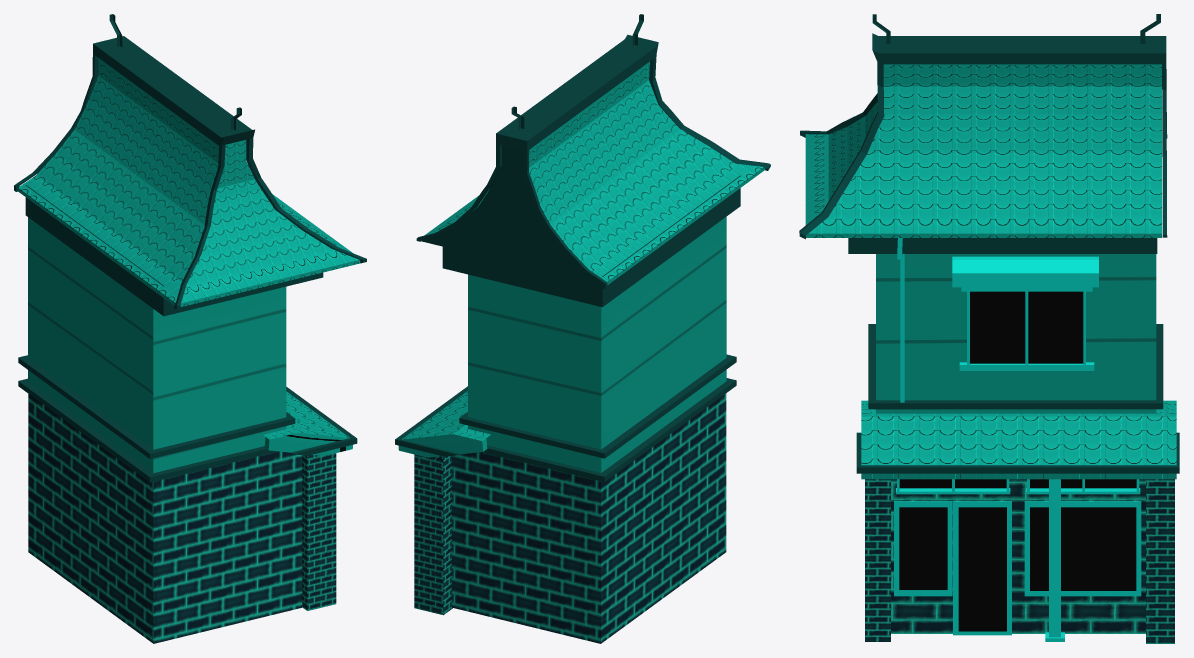
Rendered from building2.fbx.
3 views of the same model, side by side, from view 1: azimuth 30°, elevation 25°; view 2: azimuth 150°, elevation 25°; view 3: azimuth 270°, elevation 25° (orthographic). The views are drawn at different scales.
Parts seen in each view (by area): view 1: Cube.003, Cube.004, Cube.001, Cube, Cube.006, Cube.034, Cube.002, Cube.035; view 2: Cube.003, Cube.004, Cube, Cube.001, Cube.006, Cube.002, Cube.034, Cube.035; view 3: Cube.004, Cube.003, Cube.002, Cube.001, Cube.033, Cube.029, Cube.028, Cube, Cube.008, Cube.006, Cube.030, Cube.035 (+10 smaller).
Boxes of the visible parts, bbox=[...] form: Cube.003: bbox=[28, 217, 302, 643]; Cube.004: bbox=[14, 14, 366, 308]; Cube.001: bbox=[302, 453, 336, 610]; Cube: bbox=[25, 185, 323, 316]; Cube.006: bbox=[18, 355, 295, 458]; Cube.034: bbox=[18, 378, 277, 482]; Cube.002: bbox=[263, 391, 352, 456]; Cube.035: bbox=[286, 387, 357, 455]; Cube.003: bbox=[451, 217, 726, 643]; Cube.004: bbox=[416, 14, 770, 288]; Cube: bbox=[442, 175, 740, 307]; Cube.001: bbox=[414, 454, 452, 615]; Cube.006: bbox=[459, 354, 736, 458]; Cube.002: bbox=[398, 391, 490, 457]; Cube.034: bbox=[482, 378, 736, 481]; Cube.035: bbox=[395, 386, 467, 456]; Cube.004: bbox=[799, 14, 1167, 239]; Cube.003: bbox=[876, 254, 1156, 633]; Cube.002: bbox=[861, 400, 1176, 479]; Cube.001: bbox=[865, 479, 1174, 643]; Cube.033: bbox=[970, 291, 1083, 363]; Cube.029: bbox=[1030, 507, 1136, 590]; Cube.028: bbox=[958, 507, 1006, 631]; Cube: bbox=[848, 238, 1157, 253]; Cube.008: bbox=[952, 256, 1098, 287]; Cube.006: bbox=[868, 324, 1163, 409]; Cube.030: bbox=[899, 507, 947, 590]; Cube.035: bbox=[856, 432, 1179, 473].
Bounding box in the file's own units: 1419 × 3411 × 2031.
